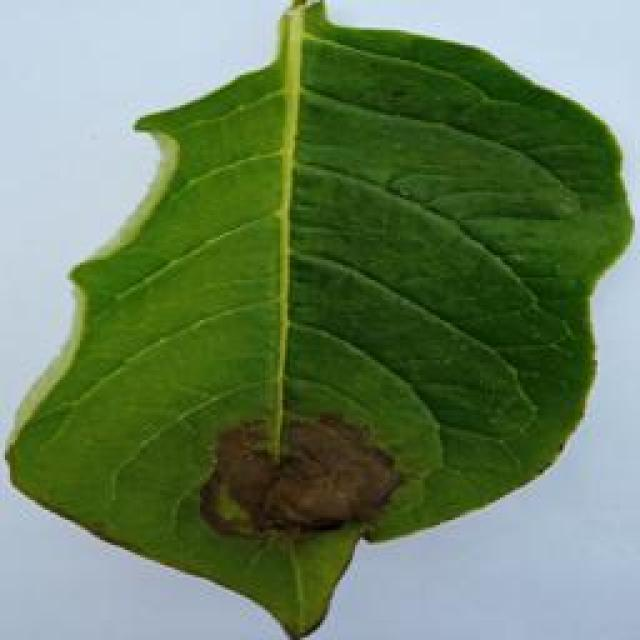Potato_Late_Blight: (9, 3, 620, 634)
